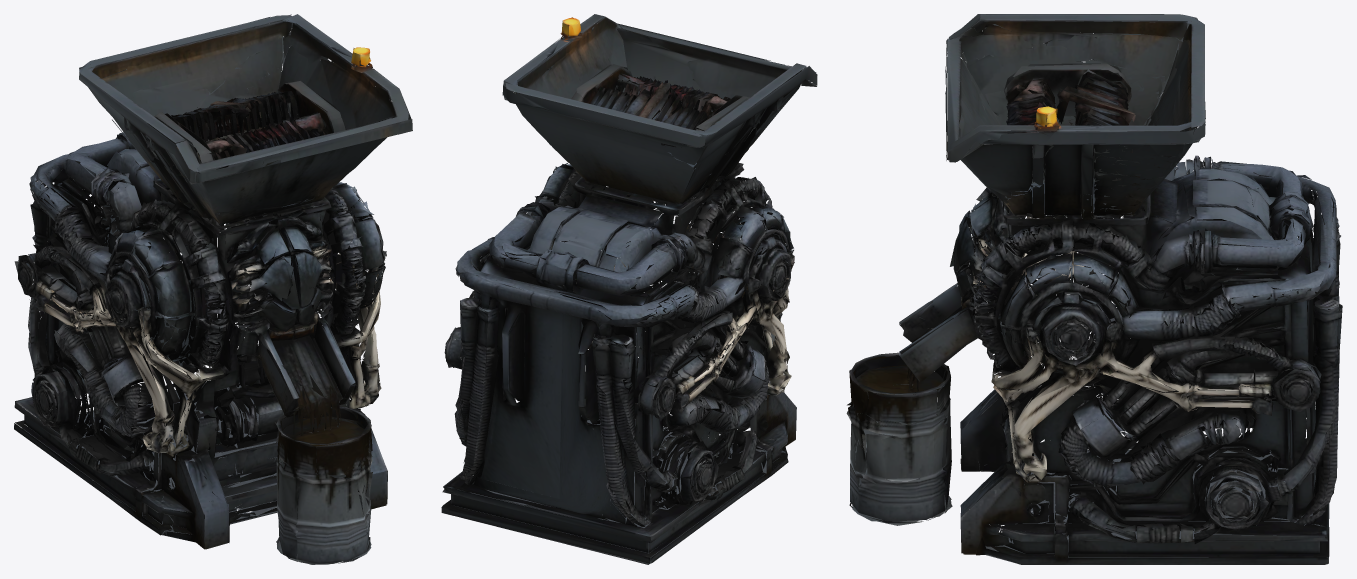
The model's file is ind_biomass_grinder.glb.
3 views of the same model, side by side, from view 1: azimuth 30°, elevation 25°; view 2: azimuth 150°, elevation 25°; view 3: azimuth 270°, elevation 25° (orthographic). The views are drawn at different scales.
Parts seen in each view (by area): view 1: node_0; view 2: node_0; view 3: node_0.
Part boxes in pixels (box(x1,y1,x2,y2)): node_0: box(14, 14, 412, 564); node_0: box(441, 14, 817, 564); node_0: box(846, 14, 1342, 564).
Size of the model in its own units: 0.5225 by 0.8179 by 0.8113.
Materials: 1 (1 with a texture image).
